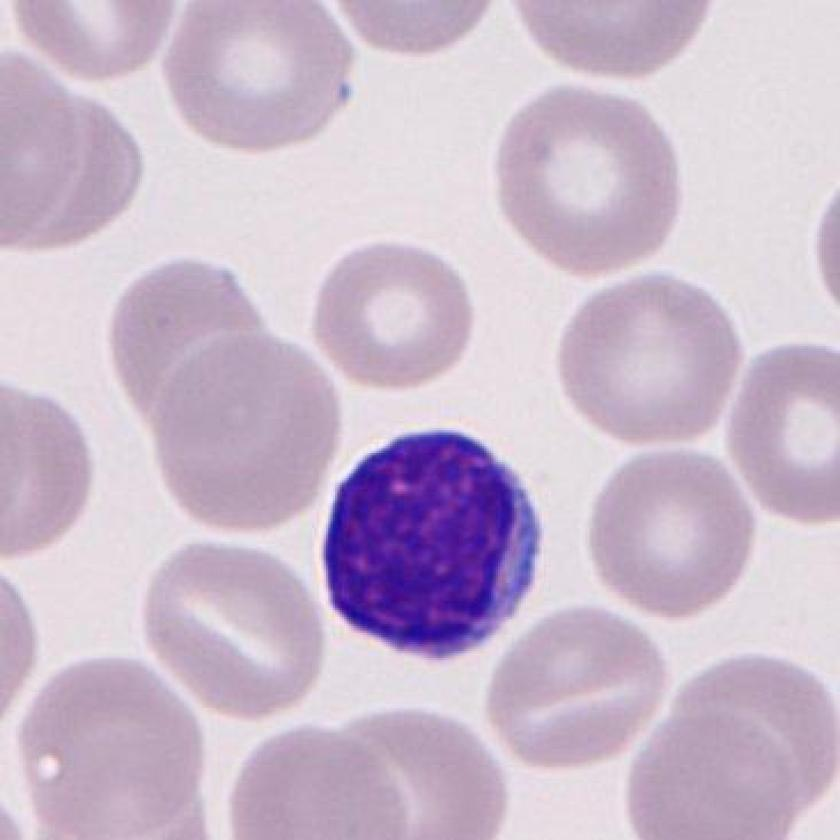lymphocyte: (304, 422, 552, 675)
